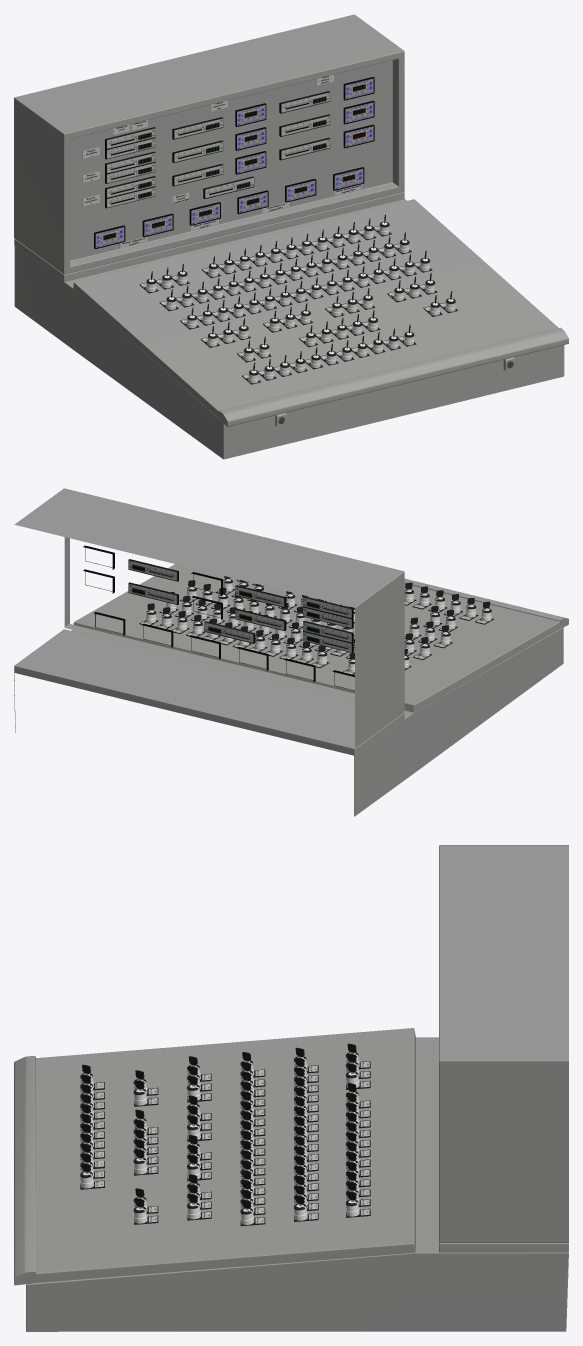
File: Console_BVNK.glb
3 views of the same model, one above another, from view 1: azimuth 30°, elevation 25°; view 2: azimuth 150°, elevation 25°; view 3: azimuth 270°, elevation 25° (orthographic). The views are drawn at different scales.
Parts seen in each view (by area): view 1: Rectangle003, Object001, Obj_Rectangle001, Line001, Rectangle001, ZB4BG4_Shield; view 2: Object001, Rectangle003, Obj_Rectangle001, F1765.2-AD_07 (×4), F1765.2-AD_01 (×2), F1765.2-AD_02 (×2), ZB4BG4_Shield, Line001, F1765.2-AD_13; view 3: Object001, Rectangle003, Obj_Rectangle001, Line001, ZB4BG4_Shield.
Boxes of the visible parts, left/top/right/bottom form: Rectangle003: left=14, top=14, right=404, bottom=274; Object001: left=14, top=192, right=558, bottom=420; Obj_Rectangle001: left=14, top=199, right=564, bottom=459; Line001: left=219, top=327, right=568, bottom=426; Rectangle001: left=82, top=74, right=362, bottom=248; ZB4BG4_Shield: left=140, top=226, right=445, bottom=378; Object001: left=14, top=564, right=561, bottom=755; Rectangle003: left=14, top=488, right=404, bottom=747; Obj_Rectangle001: left=14, top=627, right=563, bottom=816; F1765.2-AD_07 (×4): left=128, top=559, right=286, bottom=630; F1765.2-AD_01 (×2): left=303, top=596, right=353, bottom=643; F1765.2-AD_02 (×2): left=303, top=607, right=353, bottom=652; ZB4BG4_Shield: left=140, top=579, right=487, bottom=674; Line001: left=404, top=578, right=568, bottom=627; F1765.2-AD_13: left=204, top=621, right=255, bottom=643; Object001: left=32, top=1028, right=568, bottom=1283; Rectangle003: left=439, top=845, right=568, bottom=1242; Obj_Rectangle001: left=26, top=1037, right=568, bottom=1331; Line001: left=14, top=1055, right=35, bottom=1285; ZB4BG4_Shield: left=95, top=1061, right=369, bottom=1223.
Size of the model in its own units: 1.1 by 0.6441 by 1.2.
45 materials, 39 textured.
